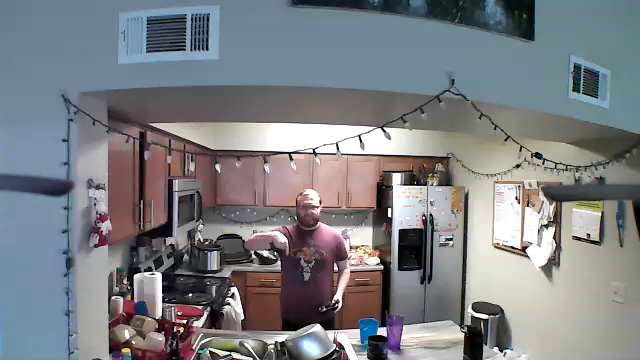down: (266, 227, 293, 258)
